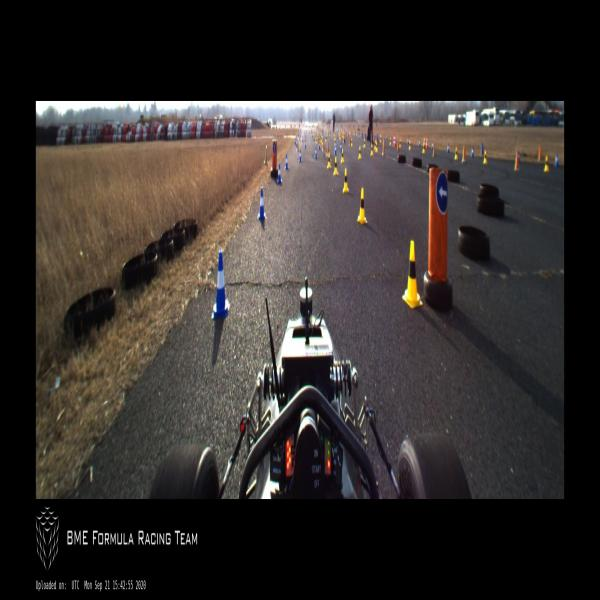blue_cone: (211, 251, 230, 319), (258, 187, 266, 220), (277, 164, 282, 183), (554, 154, 559, 167), (285, 154, 288, 169), (471, 144, 474, 159), (299, 149, 302, 162), (314, 147, 317, 159), (334, 144, 337, 156), (517, 151, 520, 163), (447, 143, 450, 154), (418, 139, 421, 147), (340, 142, 342, 152), (432, 141, 434, 150), (318, 141, 320, 150), (304, 140, 306, 148), (407, 137, 409, 144), (386, 134, 388, 140), (296, 140, 297, 146), (295, 140, 296, 146)
large_orange_cone: (392, 135, 395, 147), (426, 136, 428, 150), (394, 134, 396, 147), (424, 136, 426, 147)
yellow_cone: (402, 240, 423, 310), (357, 188, 367, 224), (343, 168, 349, 193), (333, 157, 338, 176), (544, 156, 549, 172), (327, 153, 331, 169), (483, 150, 487, 163), (341, 149, 344, 163), (375, 140, 378, 152), (358, 146, 361, 158), (455, 147, 458, 159), (422, 144, 425, 154), (363, 139, 366, 147), (399, 139, 402, 147), (371, 144, 373, 155), (374, 140, 376, 151), (409, 141, 411, 150), (390, 137, 392, 146), (350, 138, 352, 146), (334, 138, 336, 146), (380, 136, 382, 142), (322, 138, 323, 144)
